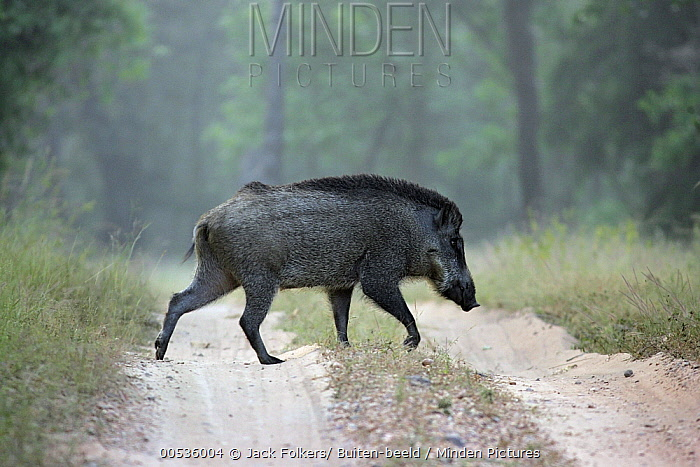wild boar: (146, 173, 487, 367)
